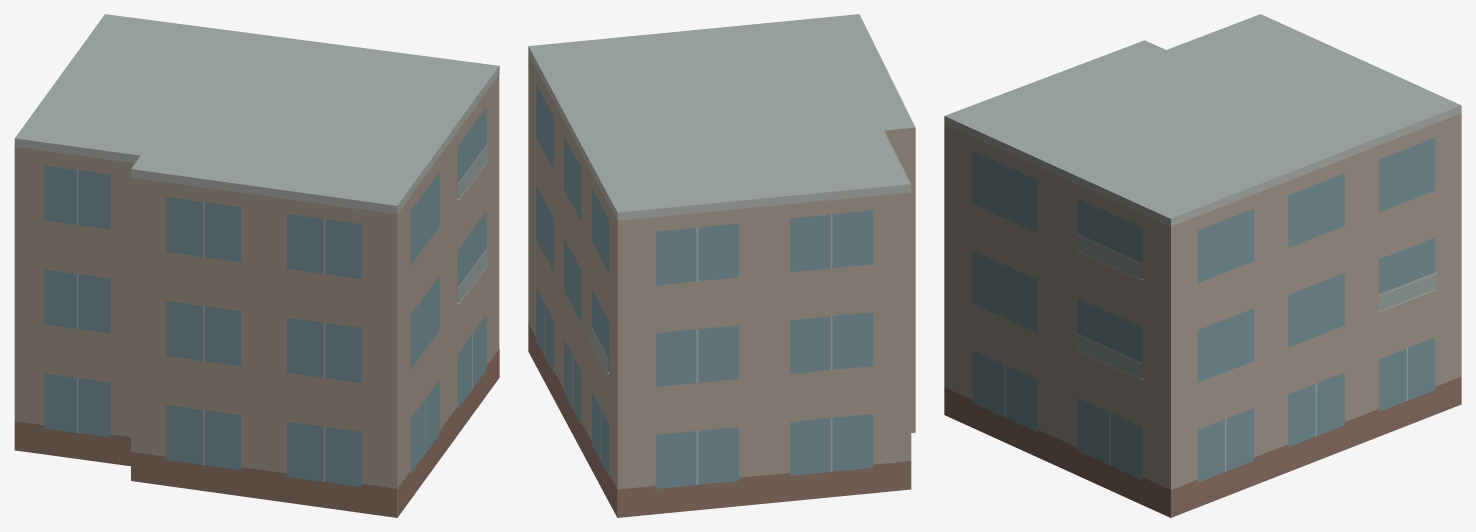
File: survey-upis-32687680.glb
3 views of the same model, side by side, from view 1: azimuth 30°, elevation 25°; view 2: azimuth 150°, elevation 25°; view 3: azimuth 270°, elevation 25° (orthographic). The views are drawn at different scales.
Parts seen in each view (by area): view 1: survey-upis-32687680.tmp; view 2: survey-upis-32687680.tmp; view 3: survey-upis-32687680.tmp.
Part boxes in pixels (left/top/right/bottom): survey-upis-32687680.tmp: left=14, top=14, right=499, bottom=517; survey-upis-32687680.tmp: left=528, top=14, right=915, bottom=517; survey-upis-32687680.tmp: left=944, top=14, right=1461, bottom=517.
Size of the model in its own units: 13.45 by 9.15 by 14.35.
